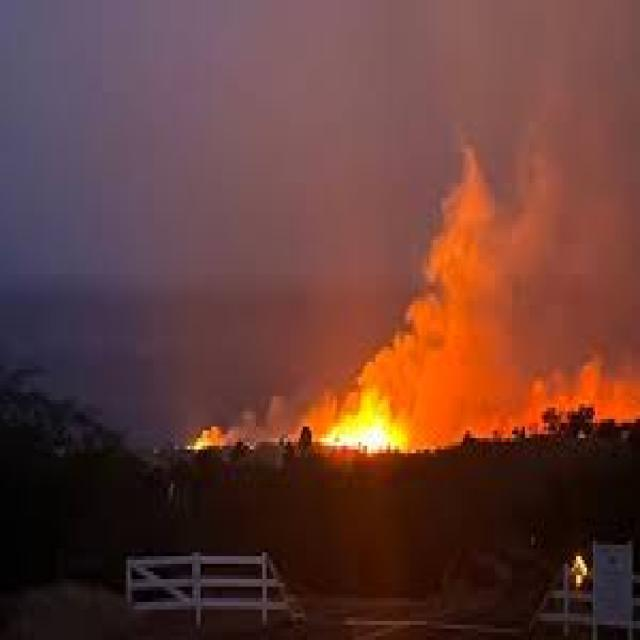Fire: (322, 388, 404, 450), (190, 424, 223, 450), (573, 548, 589, 586)
Smoke: (348, 67, 640, 390)
